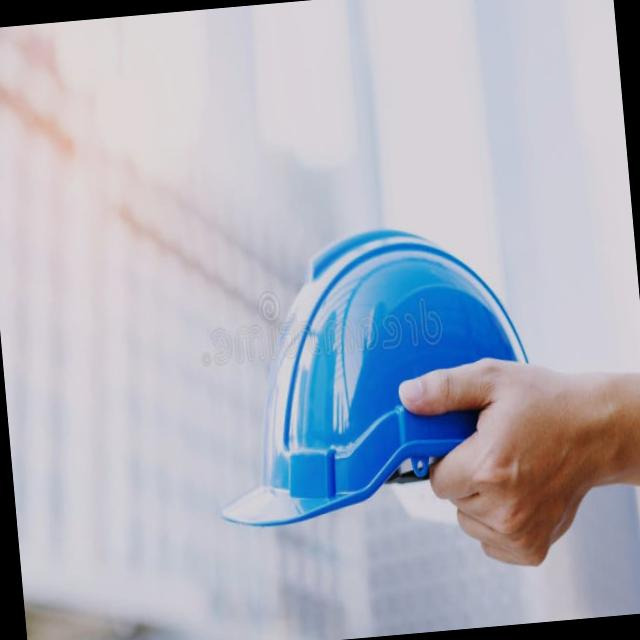helmet: (192, 210, 548, 552)
